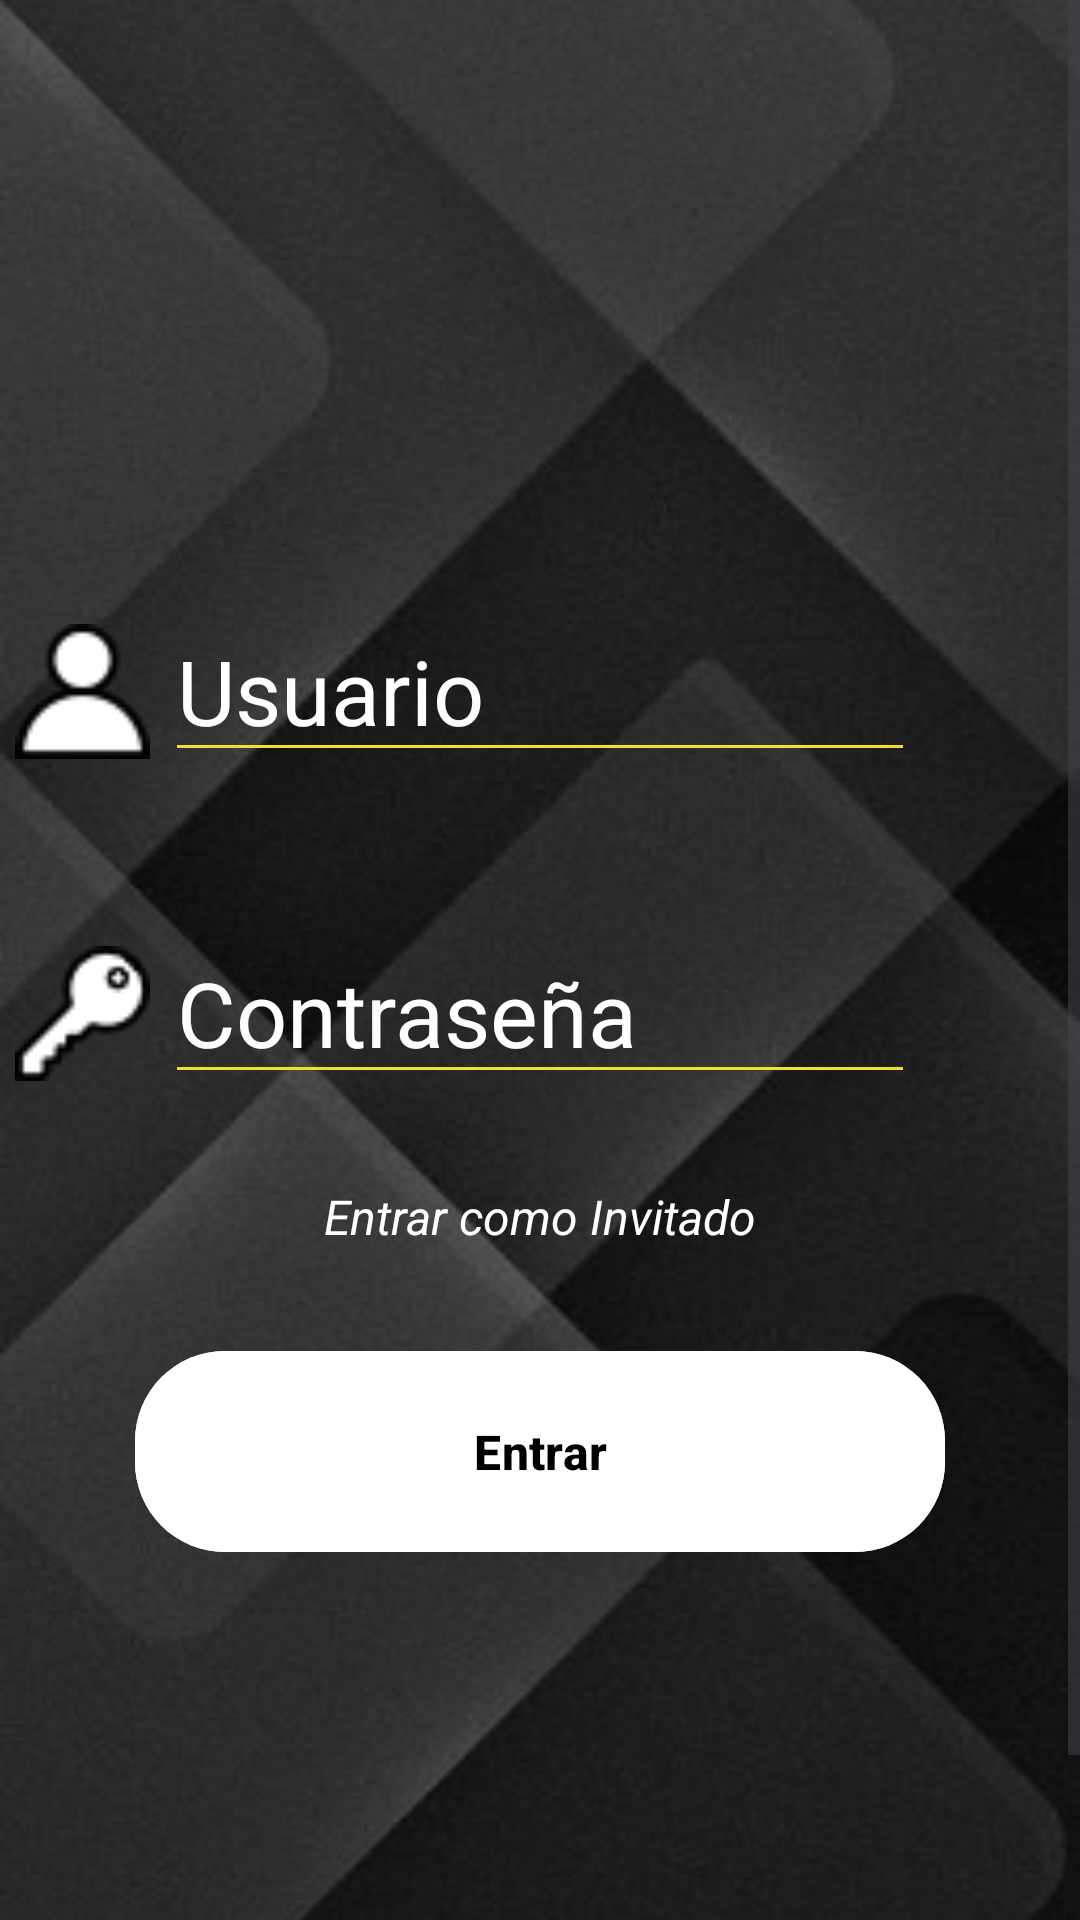

Icons on this 1080×1920 Android screen, each with the point to tap as (x=x, y=y):
llave: (x=82, y=1013)
